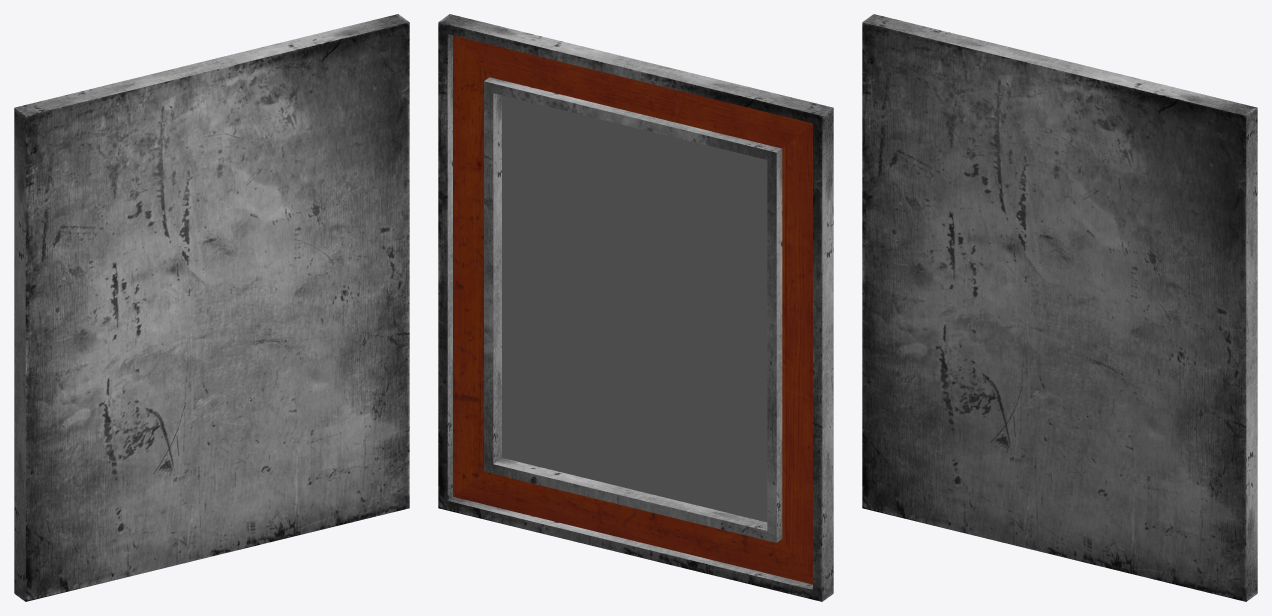
File: Mirror 18.FBX
3 renders of one model, left to right at view 1: azimuth 30°, elevation 25°; view 2: azimuth 150°, elevation 25°; view 3: azimuth 330°, elevation 25°, orthographic.
Visible parts, largest first — view 1: mirror 18; view 2: mirror 18; view 3: mirror 18.
Boxes of the visible parts, <box> form: mirror 18: <box>14,14,409,601</box>; mirror 18: <box>438,14,833,601</box>; mirror 18: <box>862,14,1257,601</box>.
Bounding box in the file's own units: 93.48 × 113 × 4.79.
Materials: 3 (2 with a texture image).
